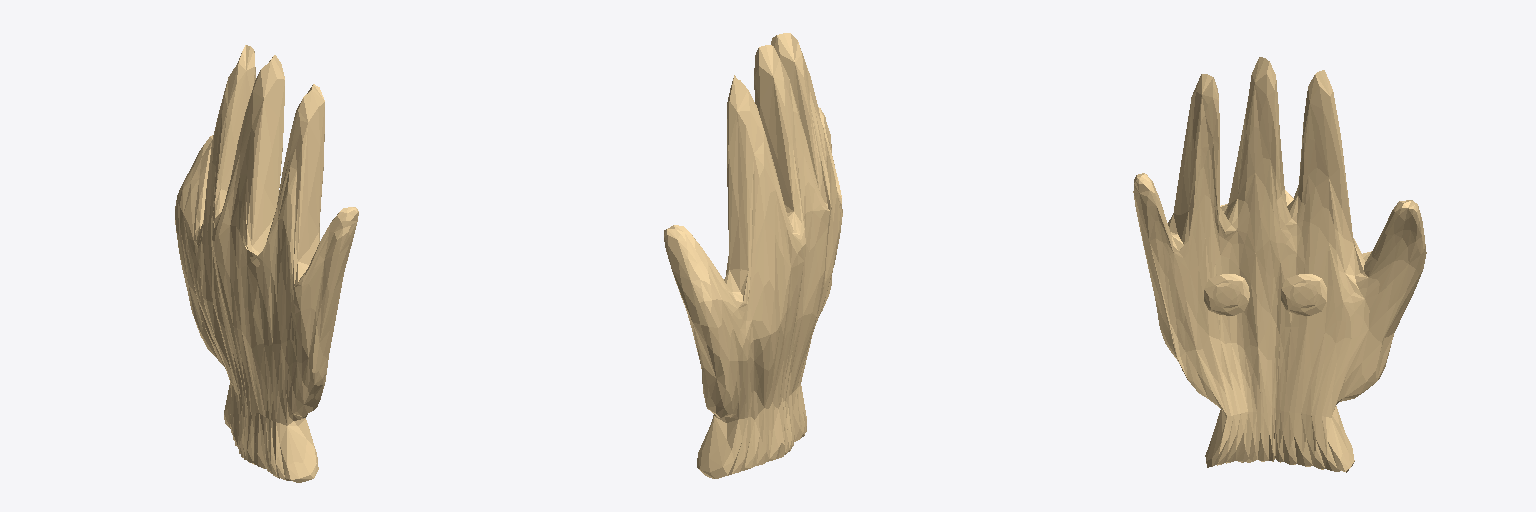
The picture shows the model from 3 angles: view 1: azimuth 30°, elevation 25°; view 2: azimuth 150°, elevation 25°; view 3: azimuth 270°, elevation 25°; orthographic projection.
Parts seen in each view (by area): view 1: Cube; view 2: Cube; view 3: Cube.
Boxes of the visible parts, <box> form: Cube: <box>175,45,358,482</box>; Cube: <box>664,33,842,478</box>; Cube: <box>1133,57,1426,472</box>.
Size of the model in its own units: 0.8594 by 4.18 by 2.74.
Materials: 1 (1 with a texture image).